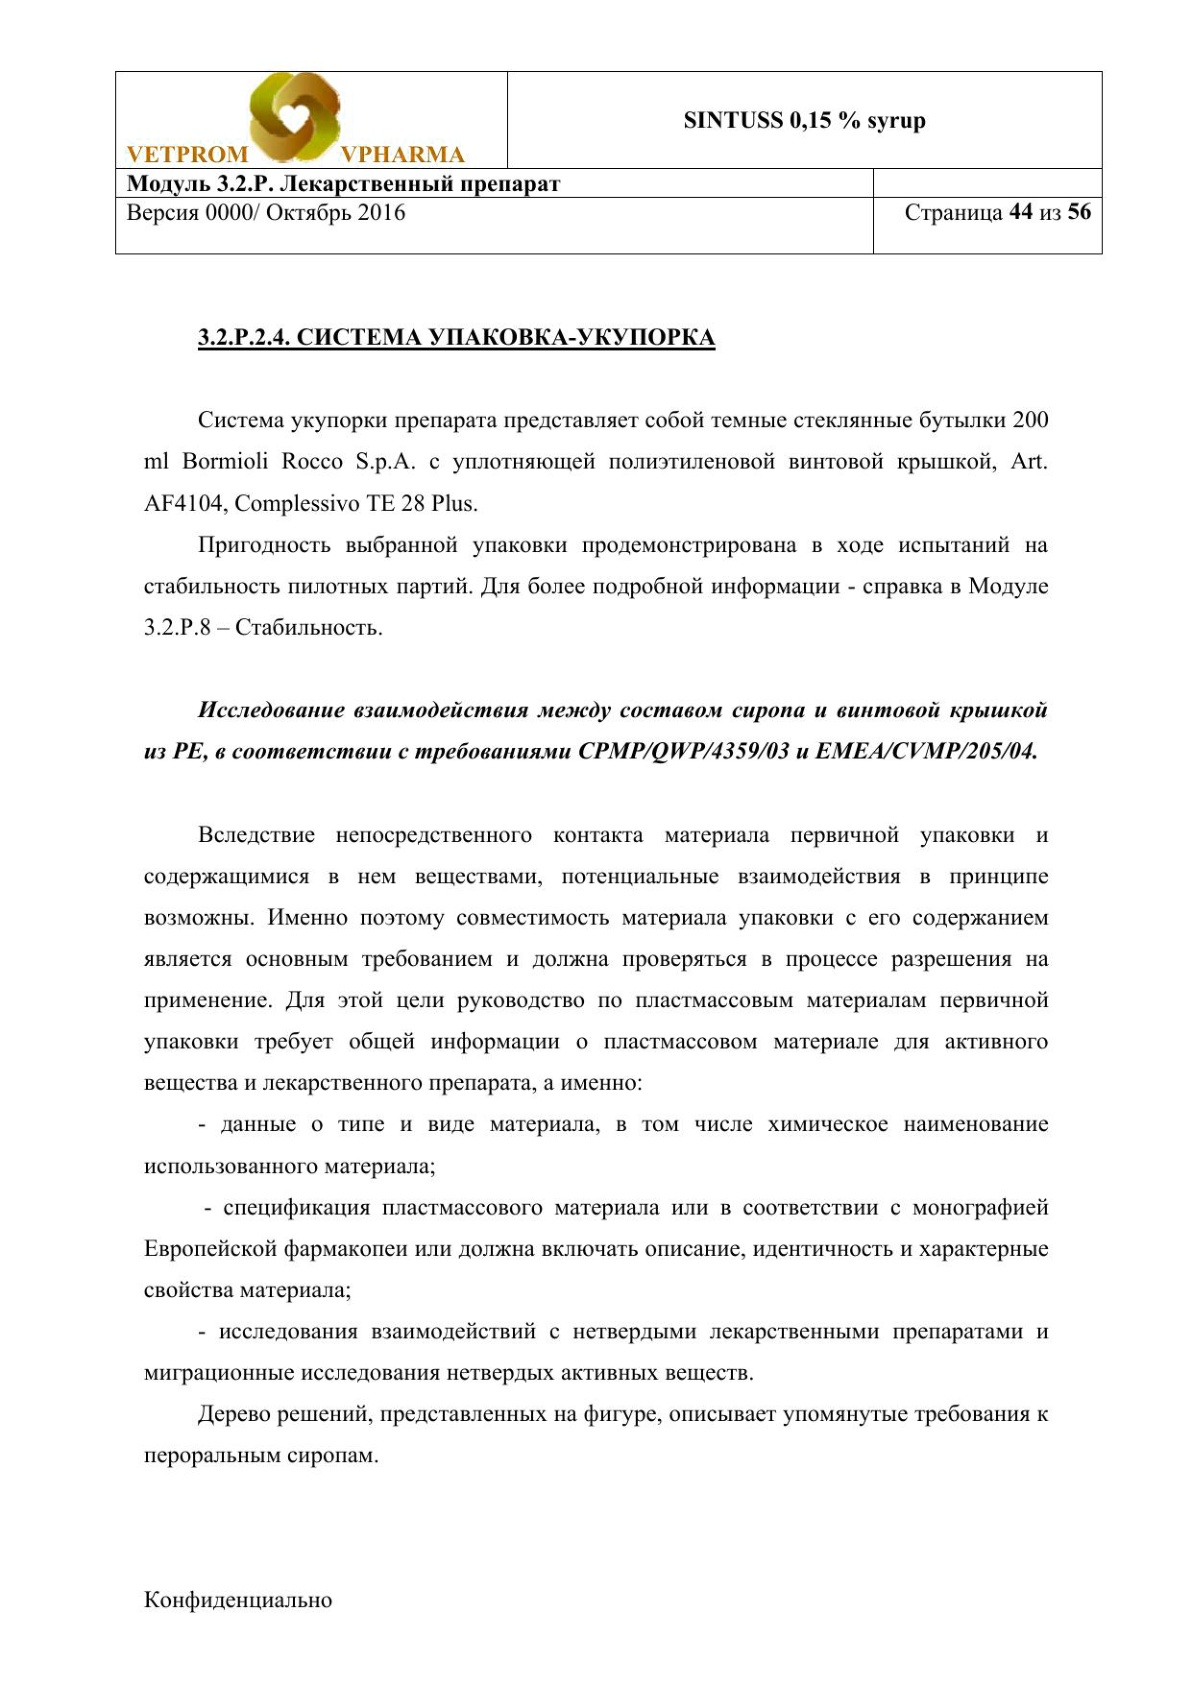merged_cells: (114, 68, 1104, 257)
